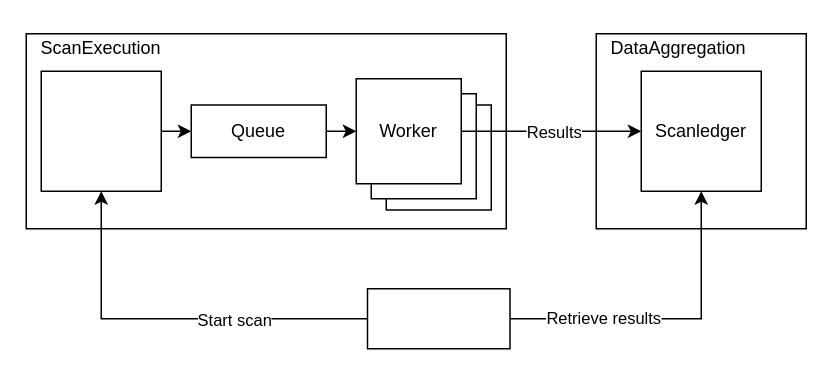
This 833x375 diagram has some shape labels left out. The centre of each missing label's shape, as x and y in pixels:
falcli: the point at 438,318
Tasker: the point at 100,130
